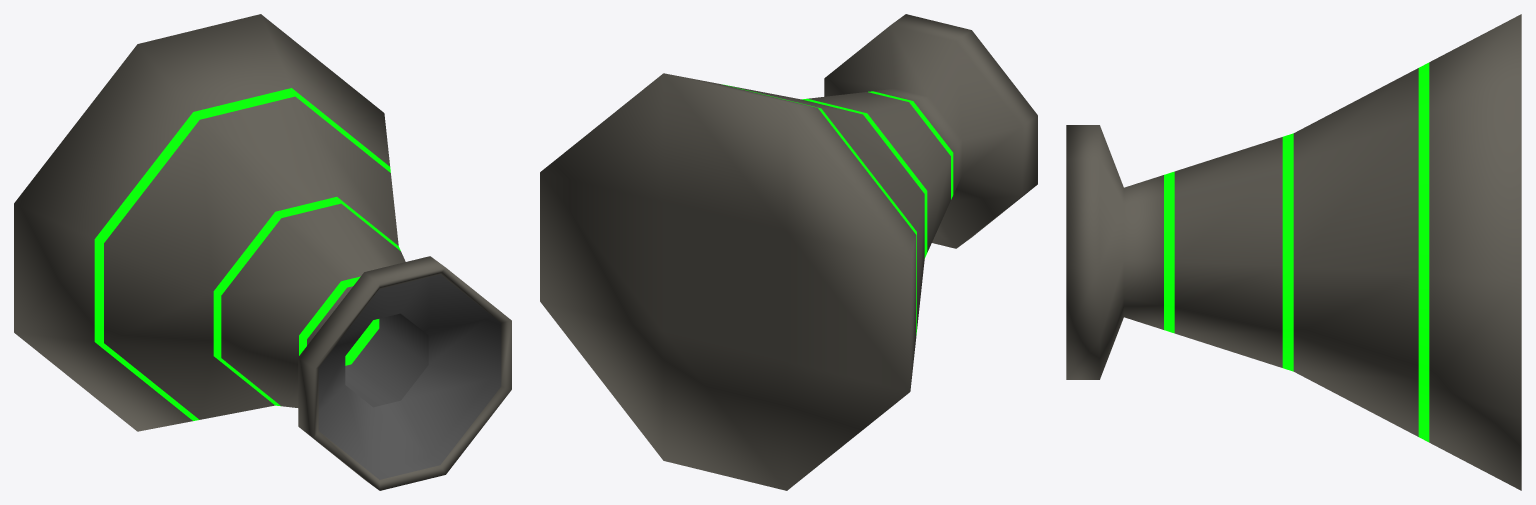
Rendered from enrichment.glb.
3 renders of one model, left to right at view 1: azimuth 30°, elevation 25°; view 2: azimuth 150°, elevation 25°; view 3: azimuth 270°, elevation 25°, orthographic. The views are drawn at different scales.
Visible parts, largest first — view 1: Plane.015; view 2: Plane.015; view 3: Plane.015.
Part boxes in pixels (x1,y1,x2,y2): Plane.015: (14, 14, 511, 490); Plane.015: (540, 14, 1037, 490); Plane.015: (1066, 14, 1521, 490).
Bounding box in the file's own units: 0.8 × 0.8 × 0.7993.
